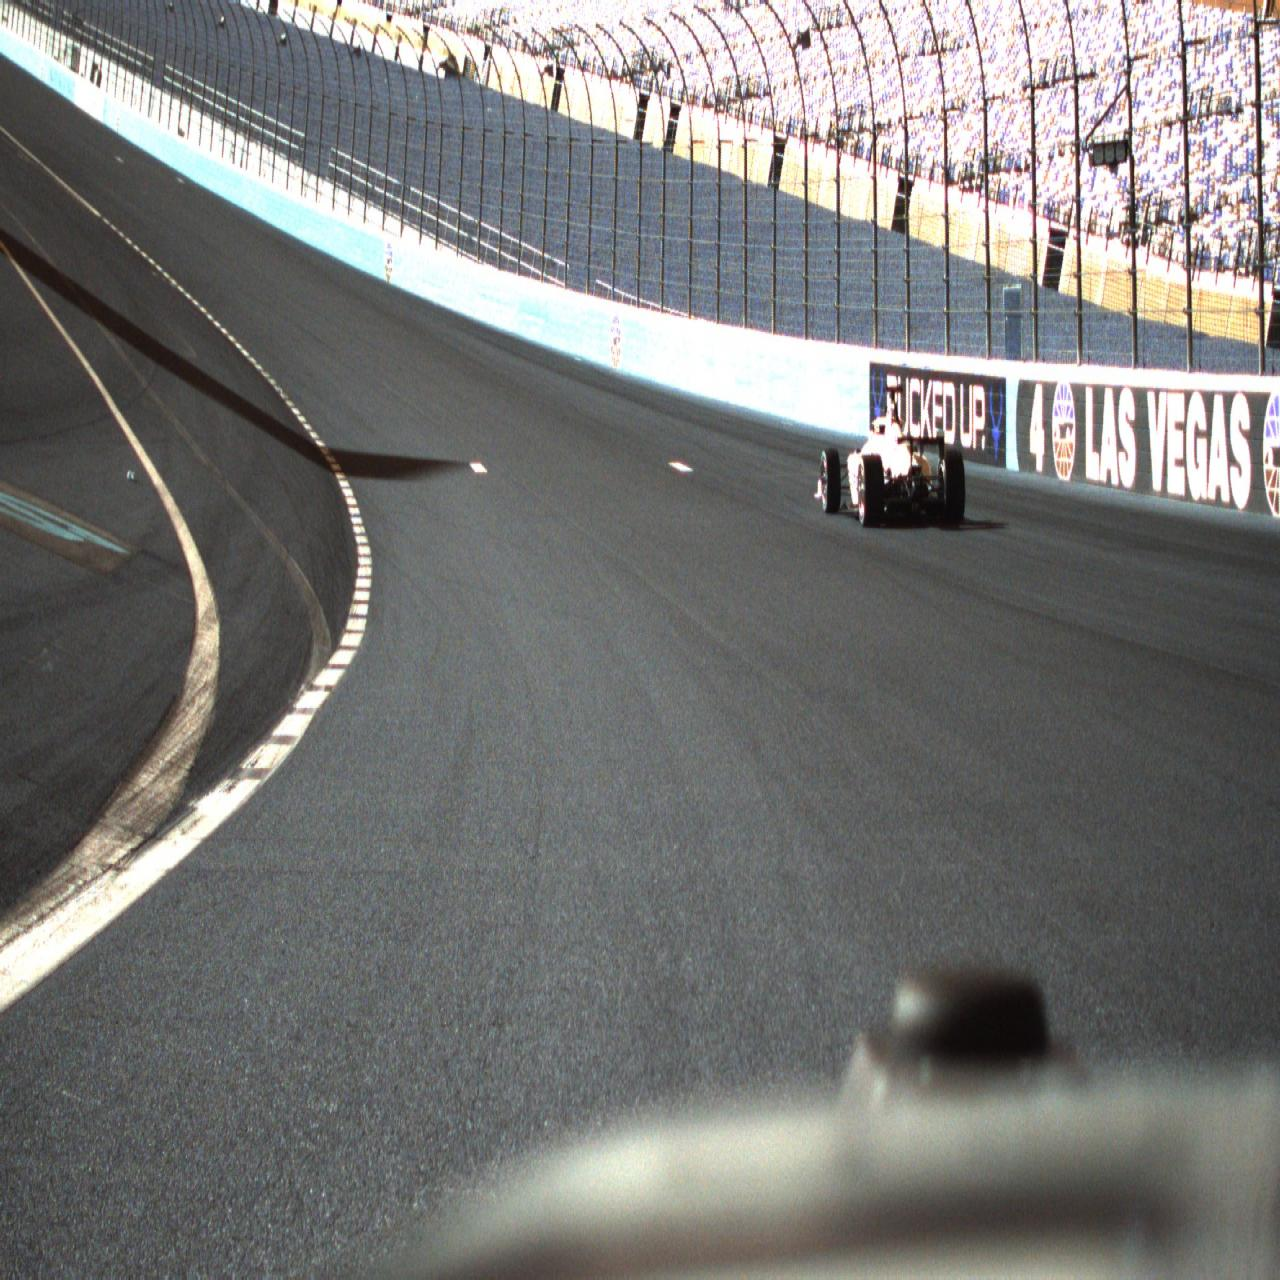AV: (813, 386, 966, 527)
Wheel: (938, 450, 965, 526), (856, 454, 884, 526), (821, 448, 840, 513)
